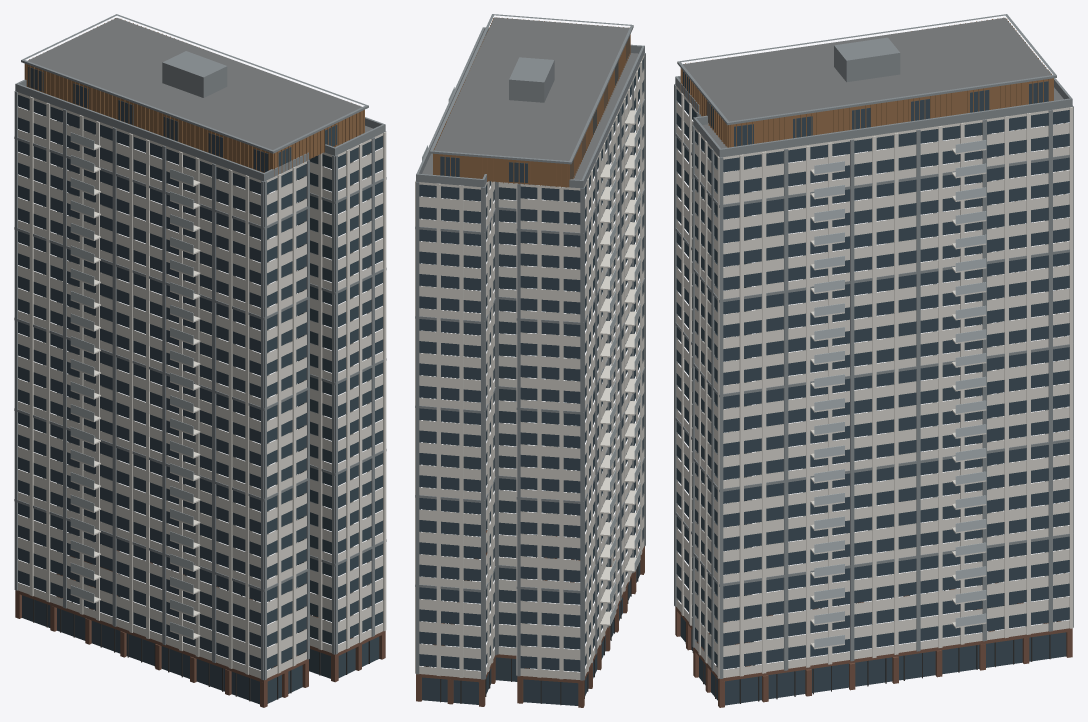
The model's file is norland_house.glb.
3 renders of one model, left to right at view 1: azimuth 30°, elevation 25°; view 2: azimuth 150°, elevation 25°; view 3: azimuth 270°, elevation 25°, orthographic. The views are drawn at different scales.
Size of the model in its own units: 30.22 by 69.57 by 42.07.
